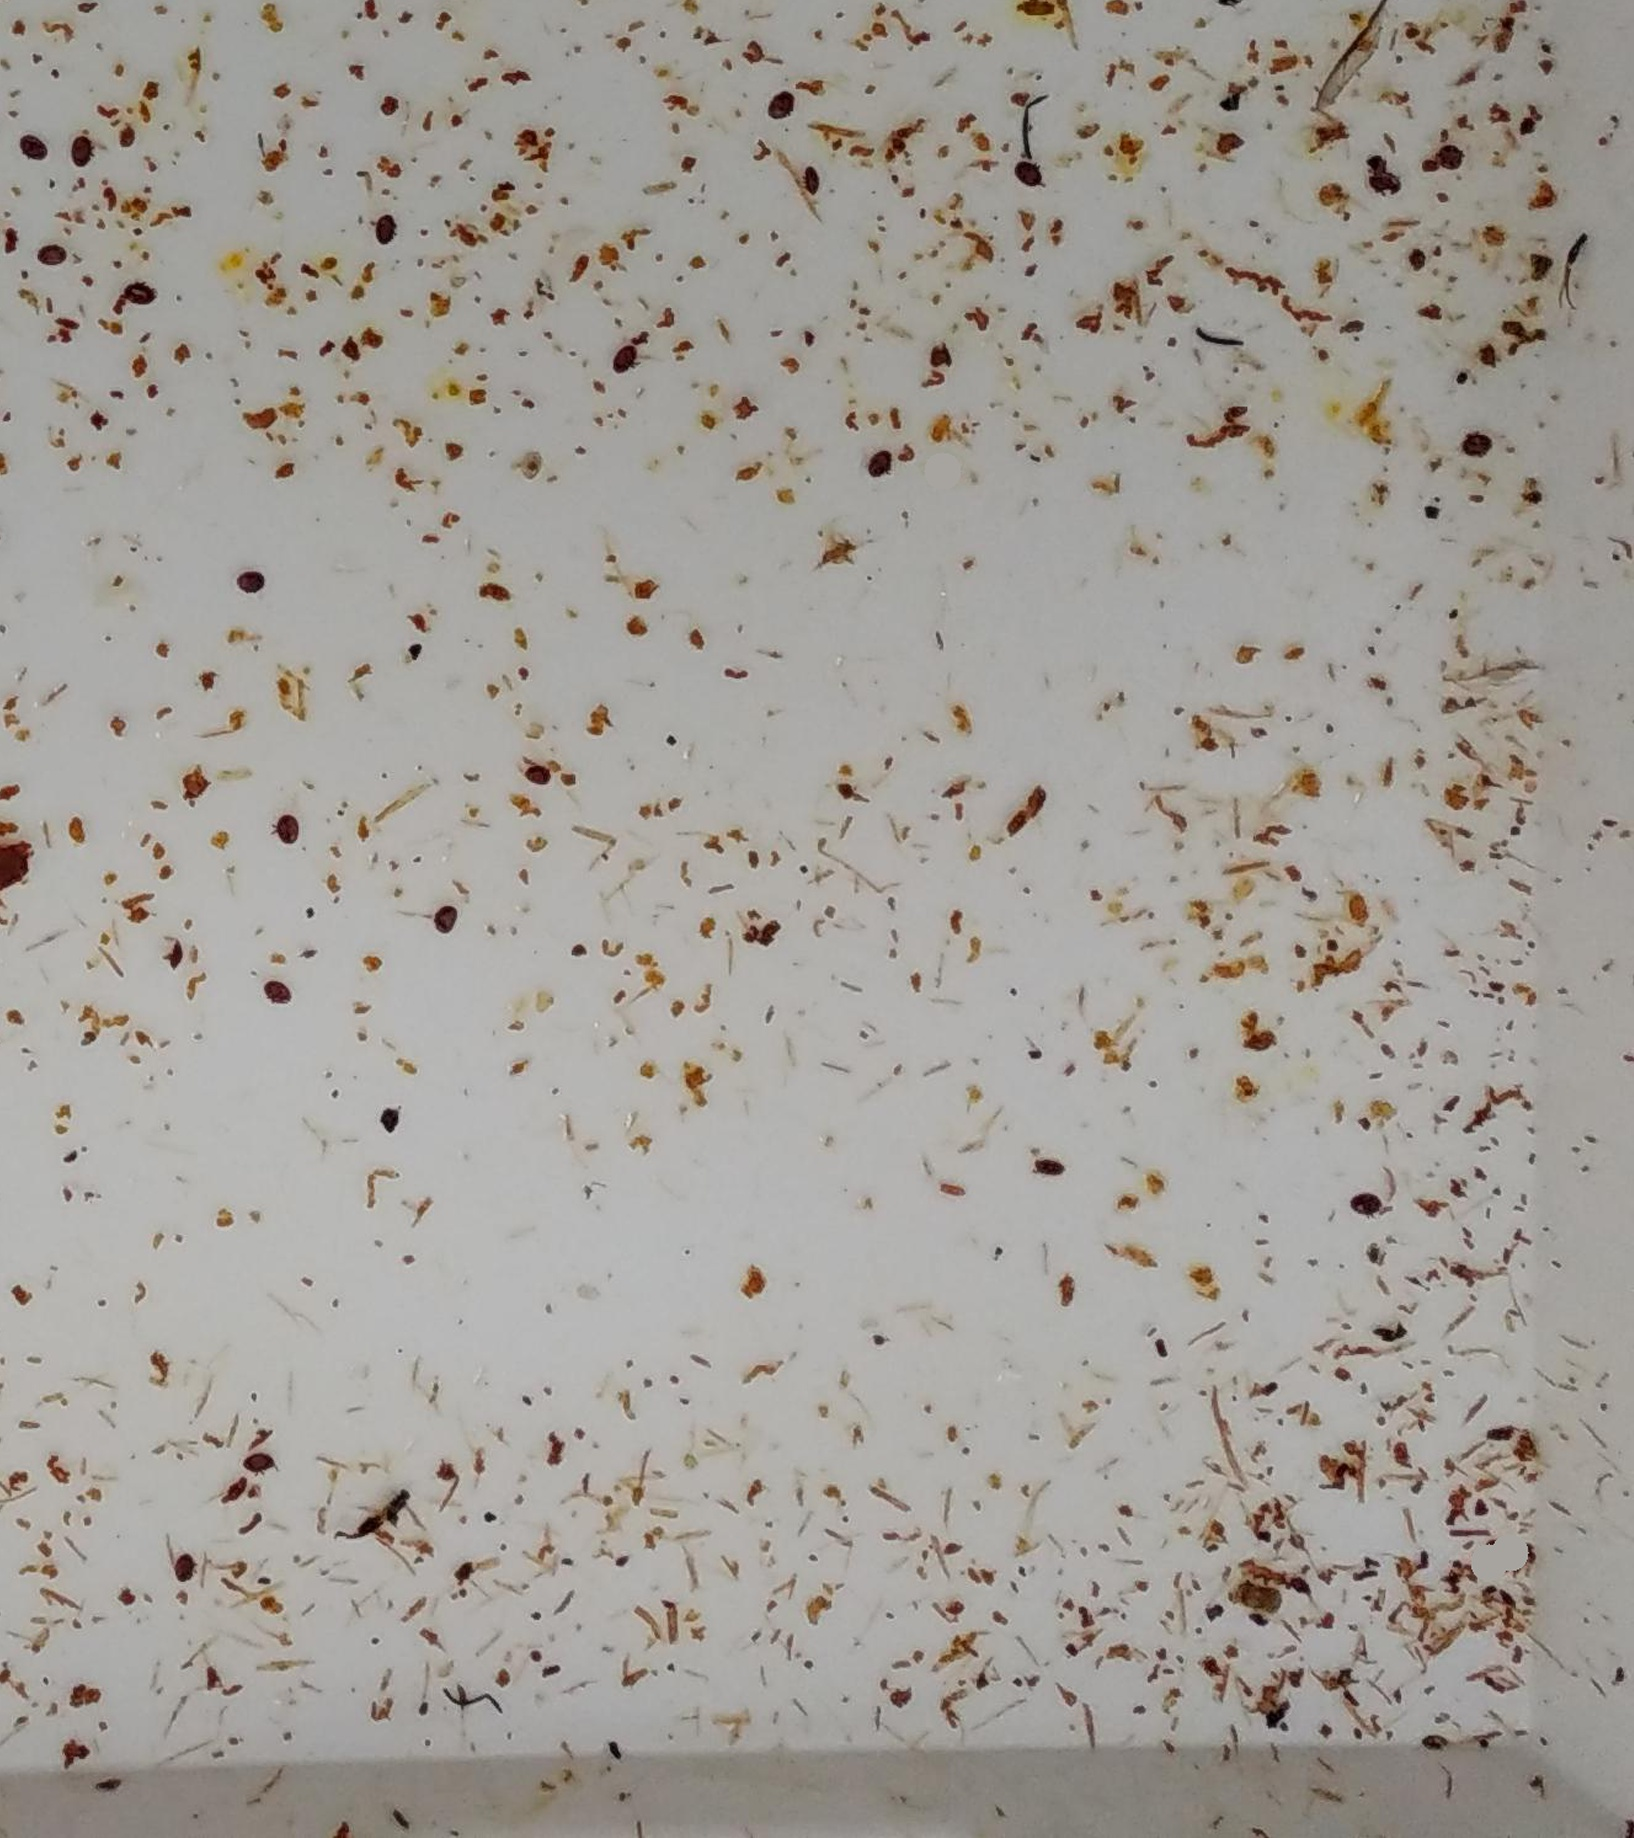Varroa: (155, 932, 196, 973), (432, 899, 468, 942), (233, 560, 271, 600), (1349, 1191, 1386, 1229), (14, 129, 50, 167), (36, 235, 73, 271), (602, 336, 639, 372), (271, 811, 306, 849), (1009, 151, 1044, 189), (166, 1556, 200, 1593), (240, 1447, 274, 1485), (762, 96, 796, 133), (125, 282, 159, 319), (262, 969, 298, 1003), (249, 989, 284, 1025), (524, 764, 558, 798), (759, 73, 793, 107), (793, 163, 826, 199), (178, 1538, 211, 1575), (1461, 424, 1494, 458), (1427, 148, 1461, 181), (1369, 159, 1402, 192), (366, 208, 397, 243), (856, 442, 888, 476), (60, 133, 91, 167)
